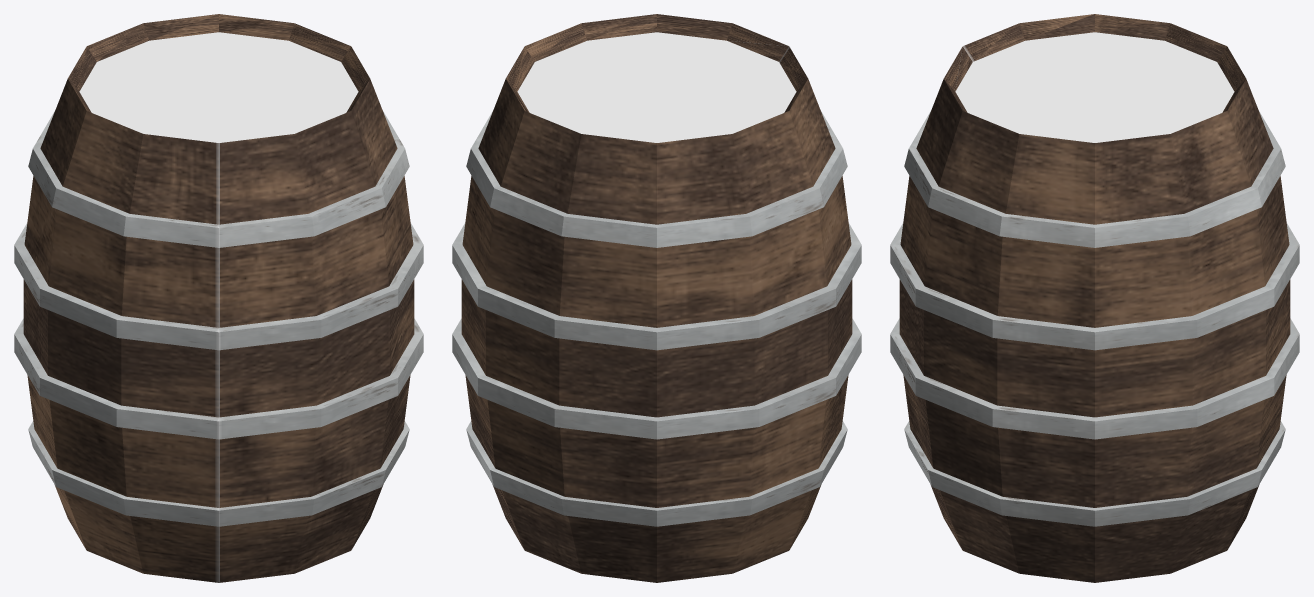
The model's file is Dust3D_Barrel.fbx.
3 renders of one model, left to right at view 1: azimuth 30°, elevation 25°; view 2: azimuth 150°, elevation 25°; view 3: azimuth 270°, elevation 25°, orthographic.
Parts seen in each view (by area): view 1: unamed; view 2: unamed; view 3: unamed.
Boxes of the visible parts, bbox=[...] form: unamed: bbox=[14, 14, 423, 582]; unamed: bbox=[452, 14, 861, 582]; unamed: bbox=[890, 14, 1299, 582].
Bounding box in the file's own units: 0.2972 × 0.3486 × 0.2942.
Materials: 1 (1 with a texture image).
